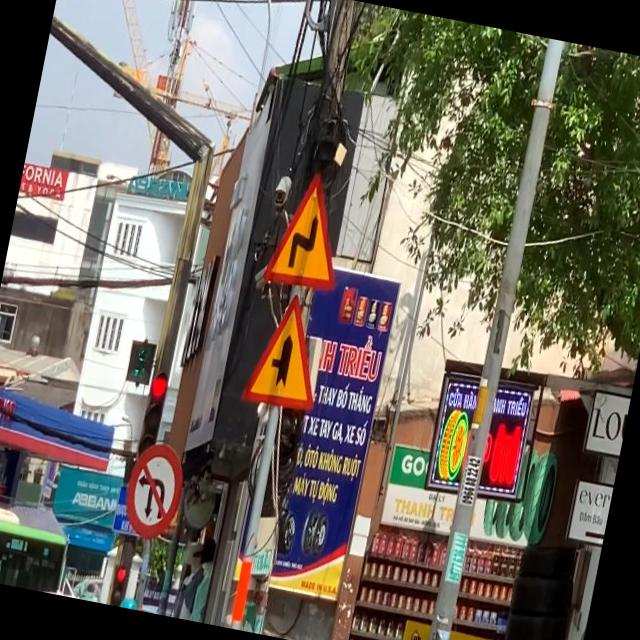P-124c: (118, 438, 190, 540)
W-202b: (260, 164, 356, 294)
W-207c: (239, 286, 334, 412)
